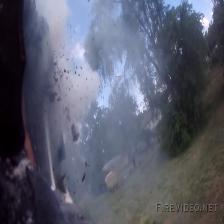smoke: (18, 0, 159, 224)
